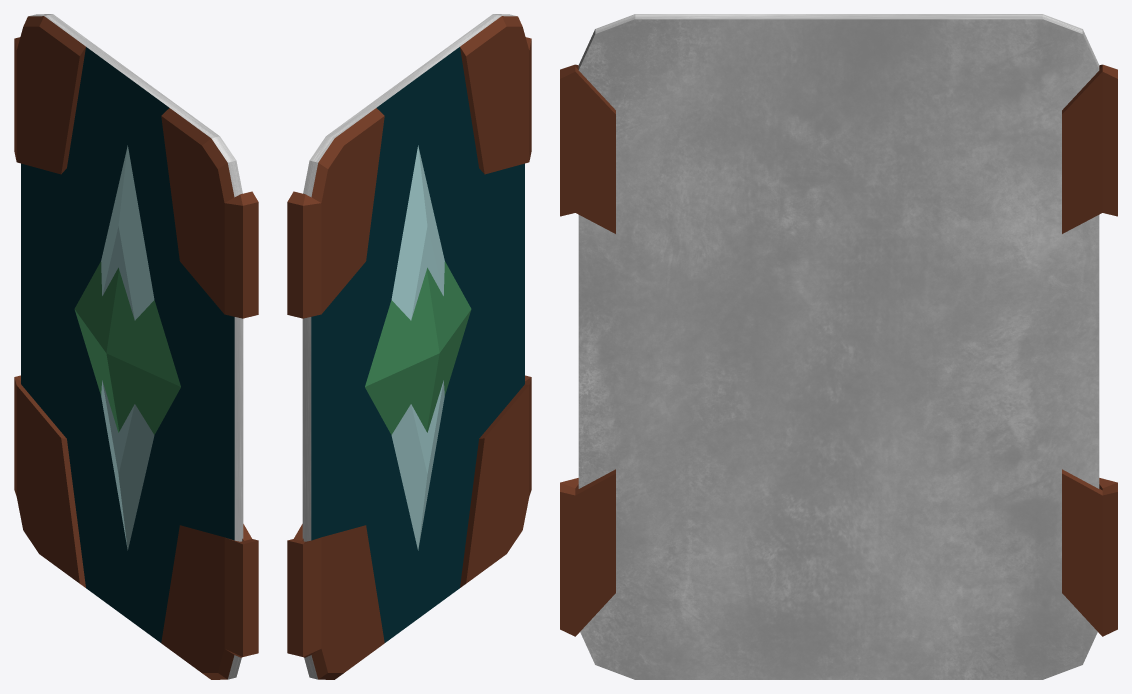
Rendered from card.glb.
3 renders of one model, left to right at view 1: azimuth 30°, elevation 25°; view 2: azimuth 150°, elevation 25°; view 3: azimuth 270°, elevation 25°, orthographic. The views are drawn at different scales.
Parts seen in each view (by area): view 1: Cube; view 2: Cube; view 3: Cube.
Part boxes in pixels (x1,y1,x2,y2): Cube: (14, 14, 258, 679); Cube: (287, 14, 531, 679); Cube: (560, 14, 1117, 679).
Bounding box in the file's own units: 0.5135 × 7 × 5.35.
Materials: 4 (4 with a texture image).
